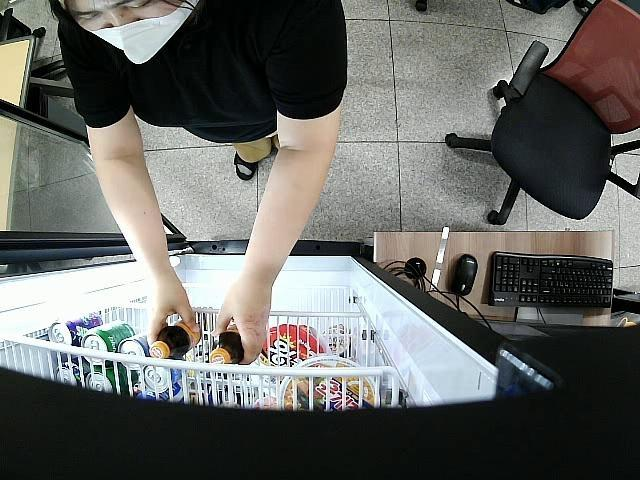17_vita500: (150, 321, 202, 359), (210, 326, 244, 364)
